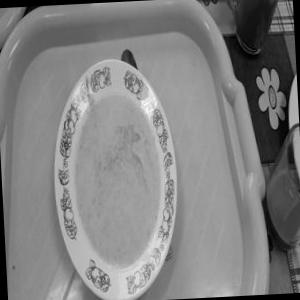porridge: (56, 79, 178, 284)
